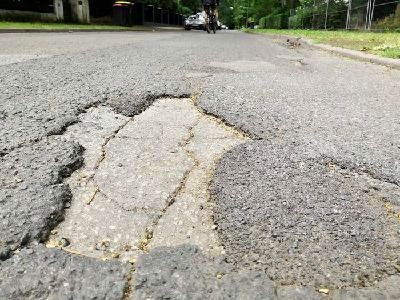pothole: (30, 89, 257, 261)
